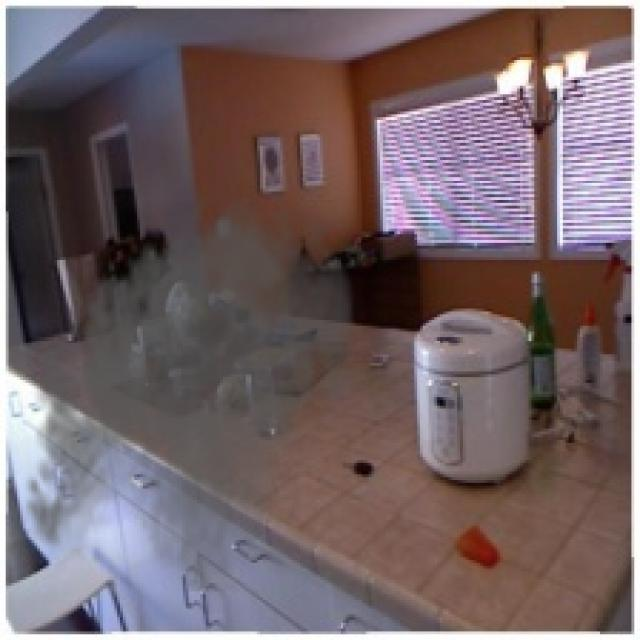smoke: (14, 183, 363, 591)
